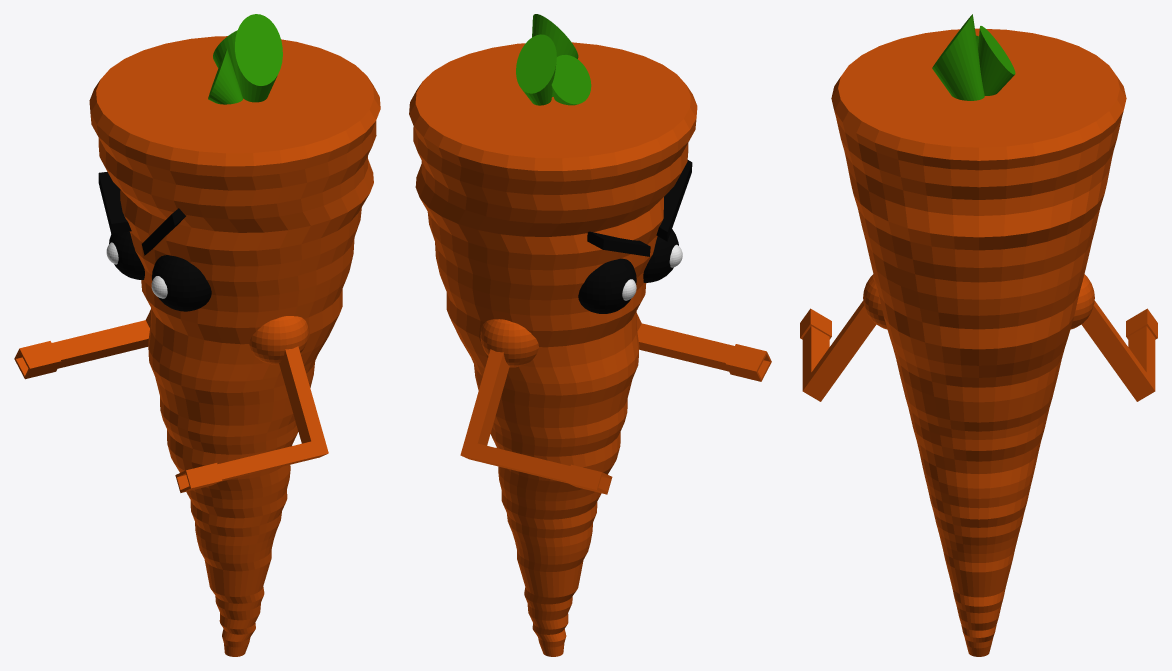
File: El_Carrot.fbx
3 renders of one model, left to right at view 1: azimuth 30°, elevation 25°; view 2: azimuth 150°, elevation 25°; view 3: azimuth 270°, elevation 25°, orthographic. The views are drawn at different scales.
Visible parts, largest first — view 1: Gövde, Sol Kol, Sağ Kol, bYaprak, Sol Göz, Sol Omuz, kYaprak, Sağ Kaş, Sağ Göz, Sol Kaş, oYaprak; view 2: Gövde, Sağ Kol, Sol Kol, oYaprak, Sağ Göz, Sağ Omuz, kYaprak, Sol Kaş, Sol Göz, Sağ Kaş, bYaprak; view 3: Gövde, Sağ Kol, Sol Kol, bYaprak, oYaprak, Sağ Omuz, Sol Omuz.
Part boxes in pixels (x1,y1,x2,y2): Gövde: (89,36,380,656); Sol Kol: (175,346,328,492); Sağ Kol: (14,309,150,379); bYaprak: (235,14,282,102); Sol Göz: (152,255,211,311); Sol Omuz: (249,316,308,364); kYaprak: (208,49,242,104); Sağ Kaş: (98,171,131,233); Sağ Göz: (109,231,144,279); Sol Kaş: (142,208,185,255); oYaprak: (213,30,240,89); Gövde: (409,42,697,656); Sağ Kol: (460,349,612,494); Sol Kol: (636,313,771,381); oYaprak: (516,34,556,105); Sağ Göz: (578,258,636,313); Sağ Omuz: (480,319,538,367); kYaprak: (551,55,591,105); Sol Kaş: (656,160,692,241); Sol Göz: (643,229,678,282); Sağ Kaş: (587,231,650,256); bYaprak: (532,14,578,96); Gövde: (831,28,1126,656); Sağ Kol: (1081,301,1157,401); Sol Kol: (800,301,876,401); bYaprak: (932,14,984,100); oYaprak: (978,26,1015,95); Sağ Omuz: (1070,274,1094,329); Sol Omuz: (863,274,887,329).
Size of the model in its own units: 205 by 482 by 242.
